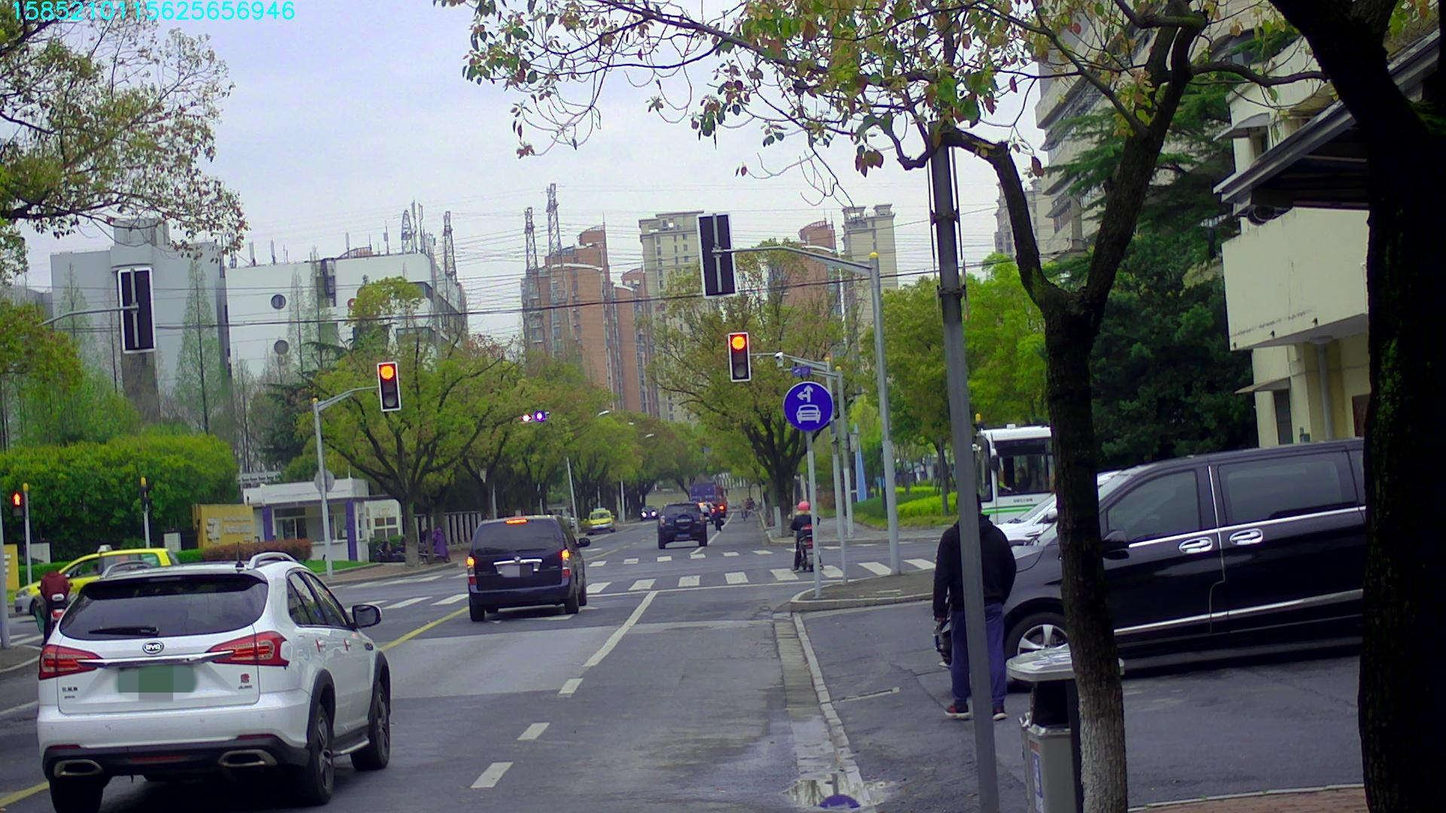red: (377, 362, 399, 409), (728, 333, 749, 380)
